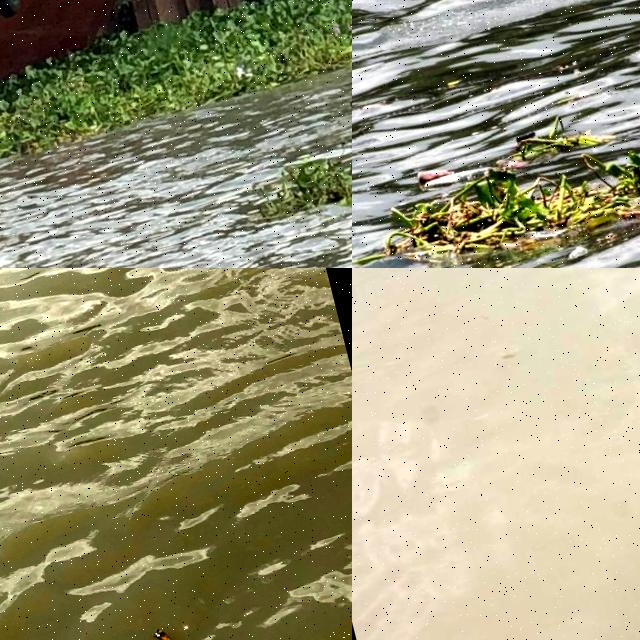water-hyacinth: (1, 1, 353, 205), (380, 107, 640, 269), (243, 113, 353, 230)
